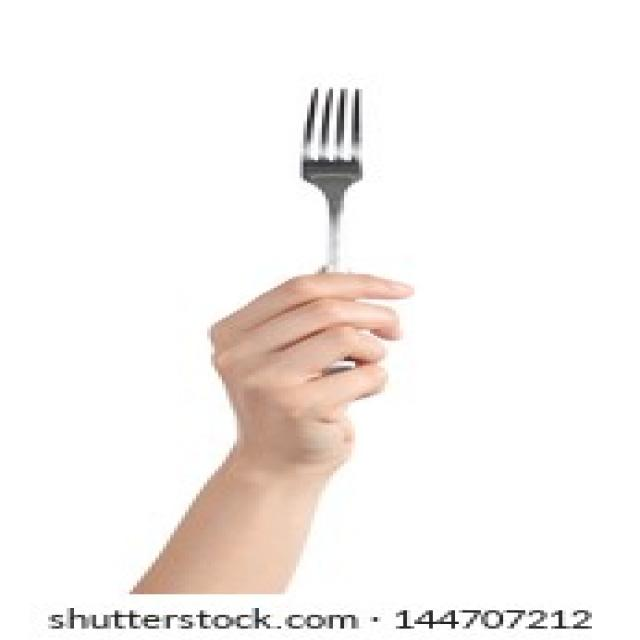fork: (292, 85, 374, 385)
